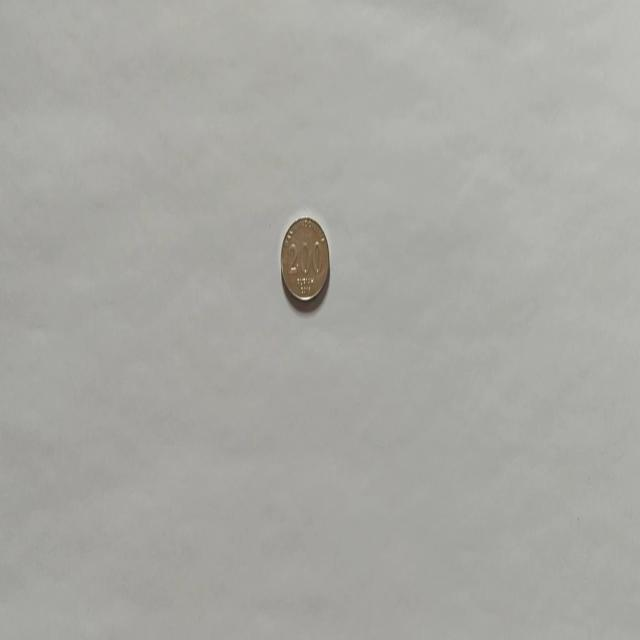dua ratus rupiah: (278, 214, 329, 303)
